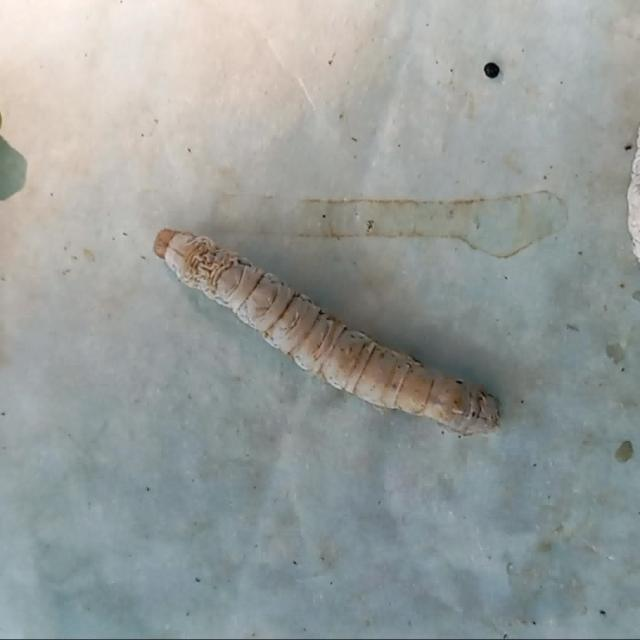Grasserie: (111, 189, 548, 470)
